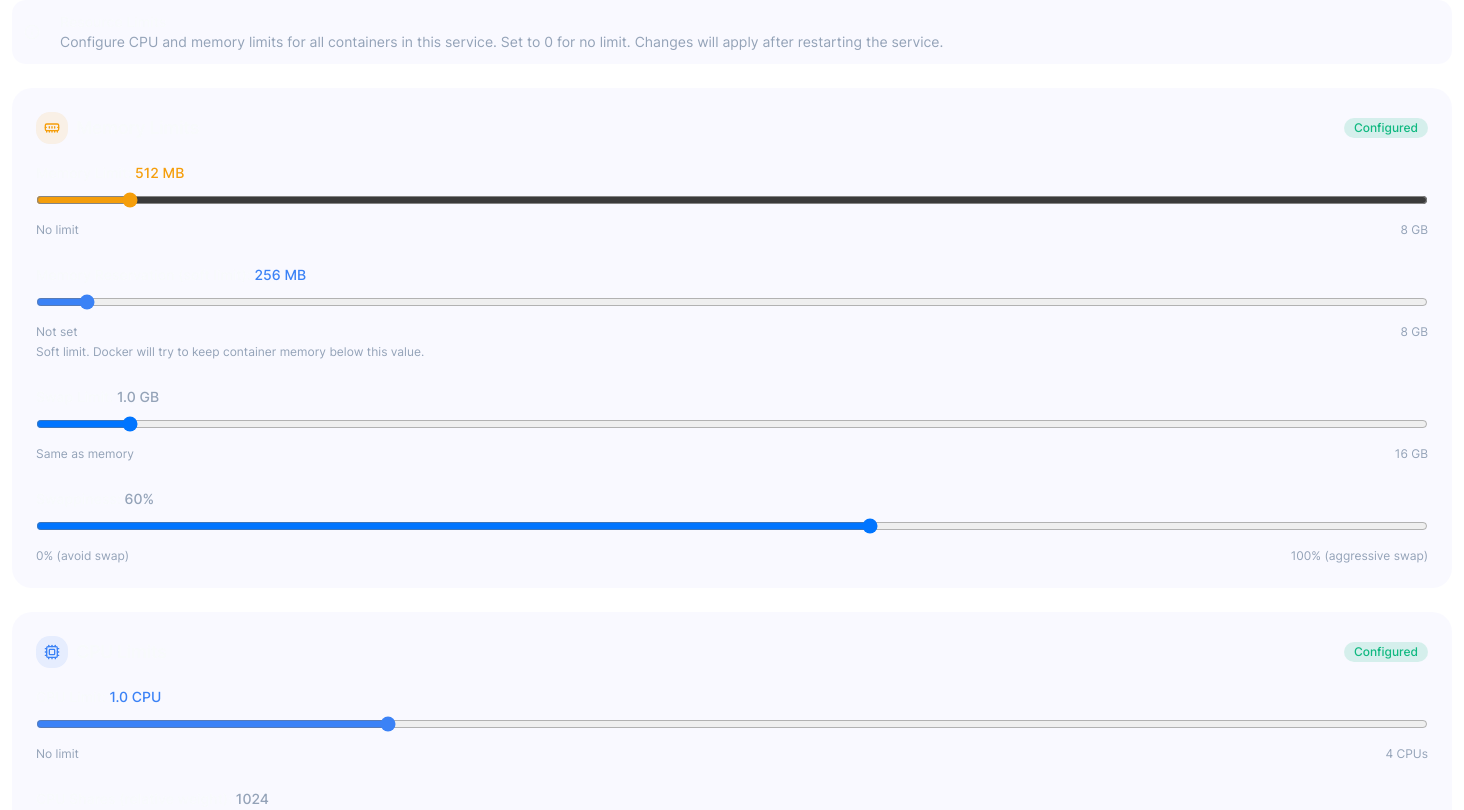
it: Service Scaling Page › allows changing CPU limit
Set the slider below "CPU Limit:" to "2000": (732, 724) 36,716 -> 1428,732
(page scrolled)
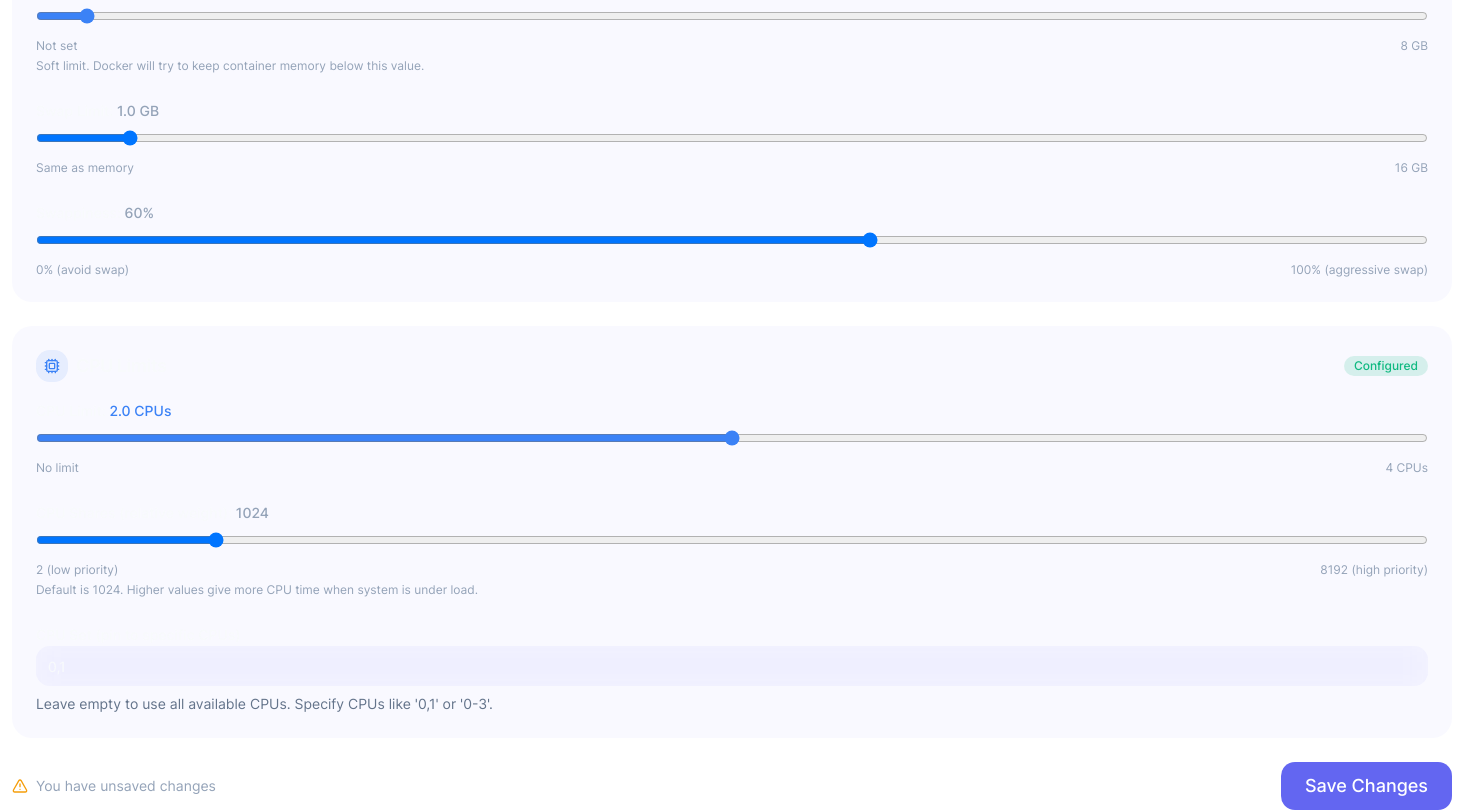
Now the text "You have unsaved changes" is shown, box 36,776 -> 216,796
